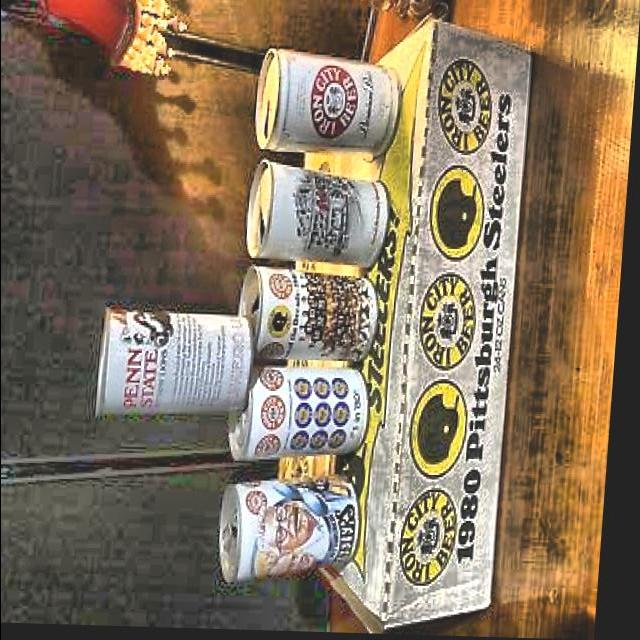litter: (93, 305, 260, 429), (242, 156, 402, 274), (216, 472, 374, 586), (227, 356, 380, 473), (248, 49, 409, 158), (232, 262, 390, 366)
